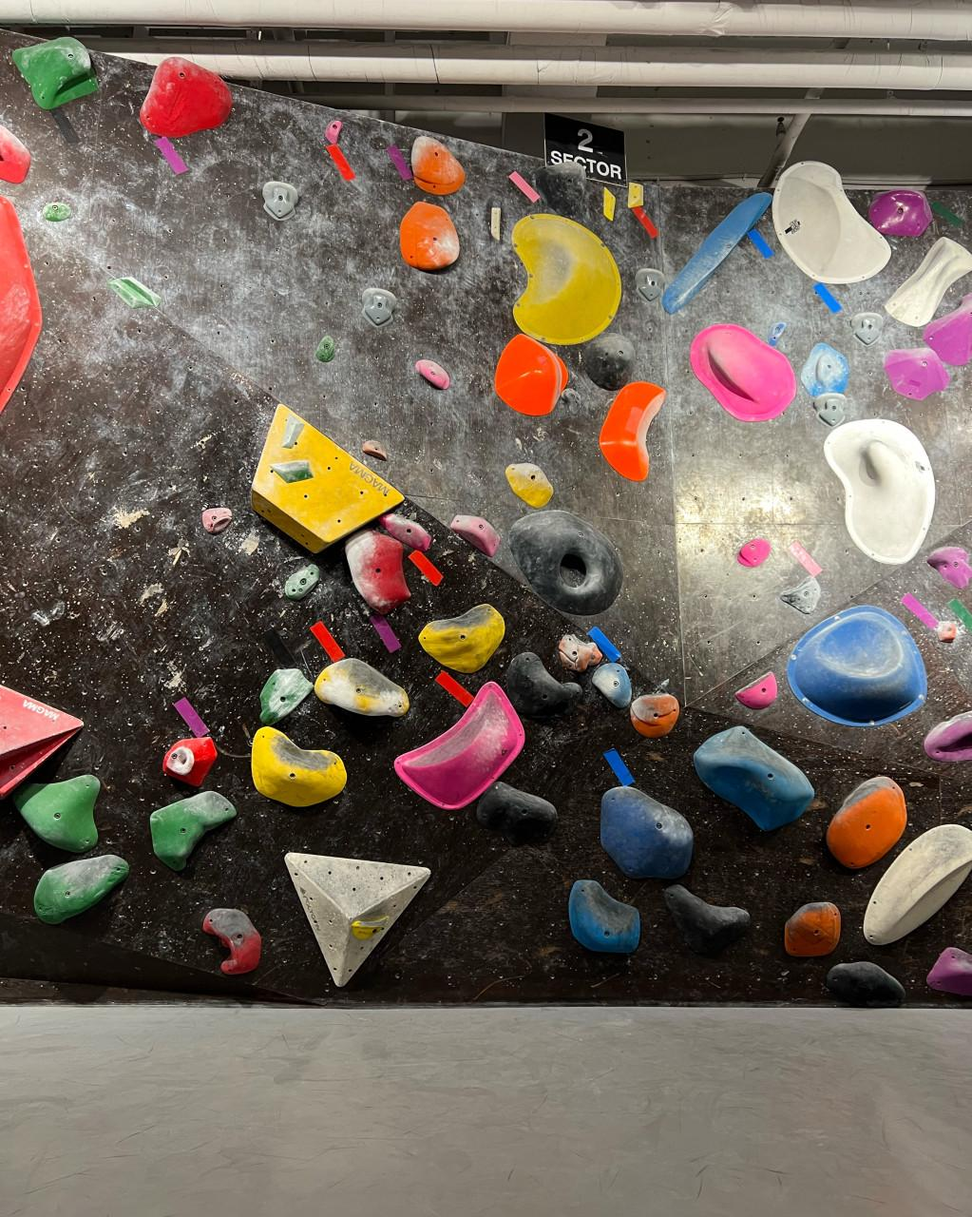hold: (788, 606, 925, 726), (395, 682, 524, 808), (825, 418, 934, 564), (772, 162, 890, 285), (513, 215, 621, 344), (662, 193, 772, 314), (864, 824, 971, 944), (694, 726, 813, 830), (507, 510, 622, 615), (690, 324, 795, 421), (0, 197, 41, 410), (601, 786, 693, 879), (886, 238, 971, 327), (252, 726, 345, 806), (141, 57, 232, 138), (827, 776, 906, 868), (150, 791, 236, 870), (12, 774, 99, 852), (600, 381, 665, 480), (34, 855, 128, 923), (663, 883, 750, 954), (494, 333, 567, 415), (12, 38, 97, 108), (420, 604, 505, 672), (345, 530, 410, 614), (314, 659, 409, 716), (477, 780, 557, 845), (569, 880, 639, 954), (503, 652, 582, 716), (400, 202, 458, 270), (202, 909, 260, 975), (884, 346, 949, 399), (827, 962, 905, 1006), (924, 294, 971, 365), (410, 136, 463, 194), (784, 902, 840, 956), (260, 668, 313, 724), (583, 334, 635, 390), (869, 189, 932, 235), (163, 737, 217, 786), (537, 164, 586, 213), (924, 711, 971, 762), (802, 343, 846, 397), (630, 693, 679, 737), (506, 463, 552, 508), (451, 515, 500, 556), (380, 512, 430, 551), (0, 125, 30, 184), (927, 548, 971, 588), (592, 663, 631, 708), (558, 634, 601, 672), (735, 671, 776, 709), (779, 577, 820, 614), (108, 279, 160, 307), (262, 181, 298, 221), (362, 287, 397, 327), (283, 564, 319, 600), (415, 359, 449, 389), (738, 538, 771, 567), (271, 460, 313, 482), (637, 267, 665, 300), (853, 312, 881, 344), (202, 507, 232, 534), (282, 413, 303, 447), (351, 920, 382, 938), (42, 202, 70, 221), (935, 621, 958, 642), (324, 120, 342, 145), (603, 186, 615, 220), (364, 441, 386, 459), (316, 337, 333, 359), (628, 183, 643, 206)
volume: (242, 399, 411, 557), (285, 853, 430, 986), (0, 686, 83, 796)
